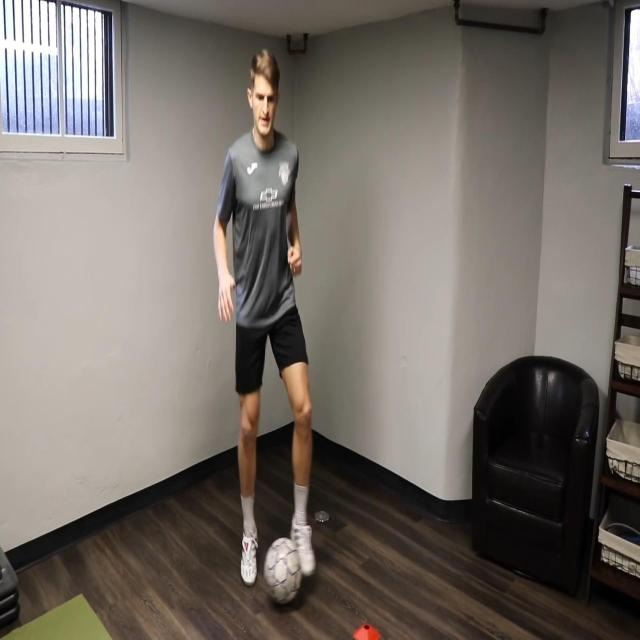Soccer Ball: (263, 535, 302, 606)
